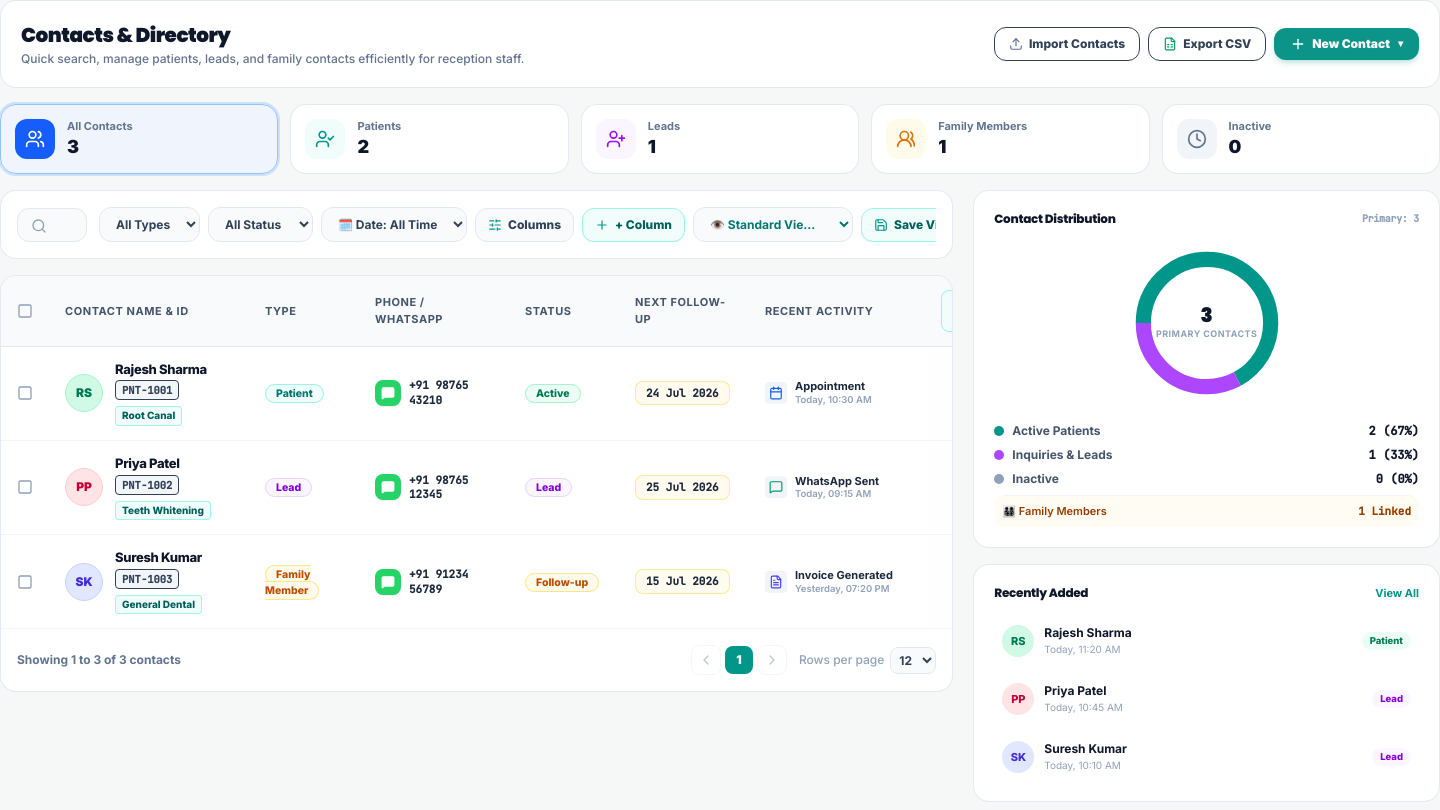
Test case: ContactsEnterpriseWorkspace & Receptionist Grid Tests › 3. Can save a custom view TWICE (Save View #1 & Save View #2) and verify persistence in savedViewsList
This screenshot has width=1440, height=810.
Note: --- First Save View Operation ---
Click the button "Save View" at (915, 224), box [861,208,969,242]
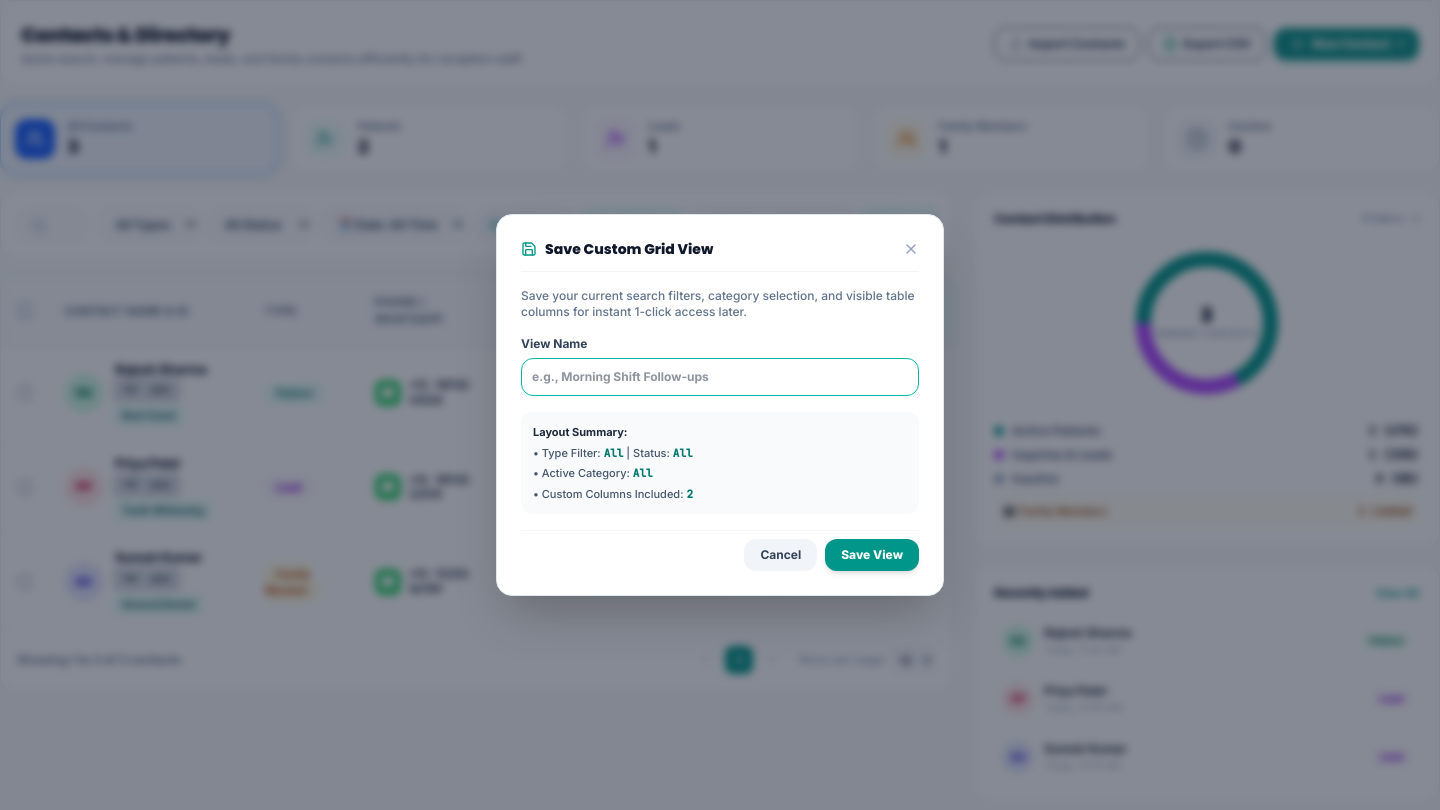
Now the text "Save Custom Grid View" is shown, box [545,239,713,259]
Type "Morning Shift View" into the field with placeholder "e.g., Morning Shift Follow-ups" at (720, 377), box [521,358,919,396]
Note: Confirm Save View #1 in modal
Click the button "Save View" at (872, 555), box [825,539,919,571]
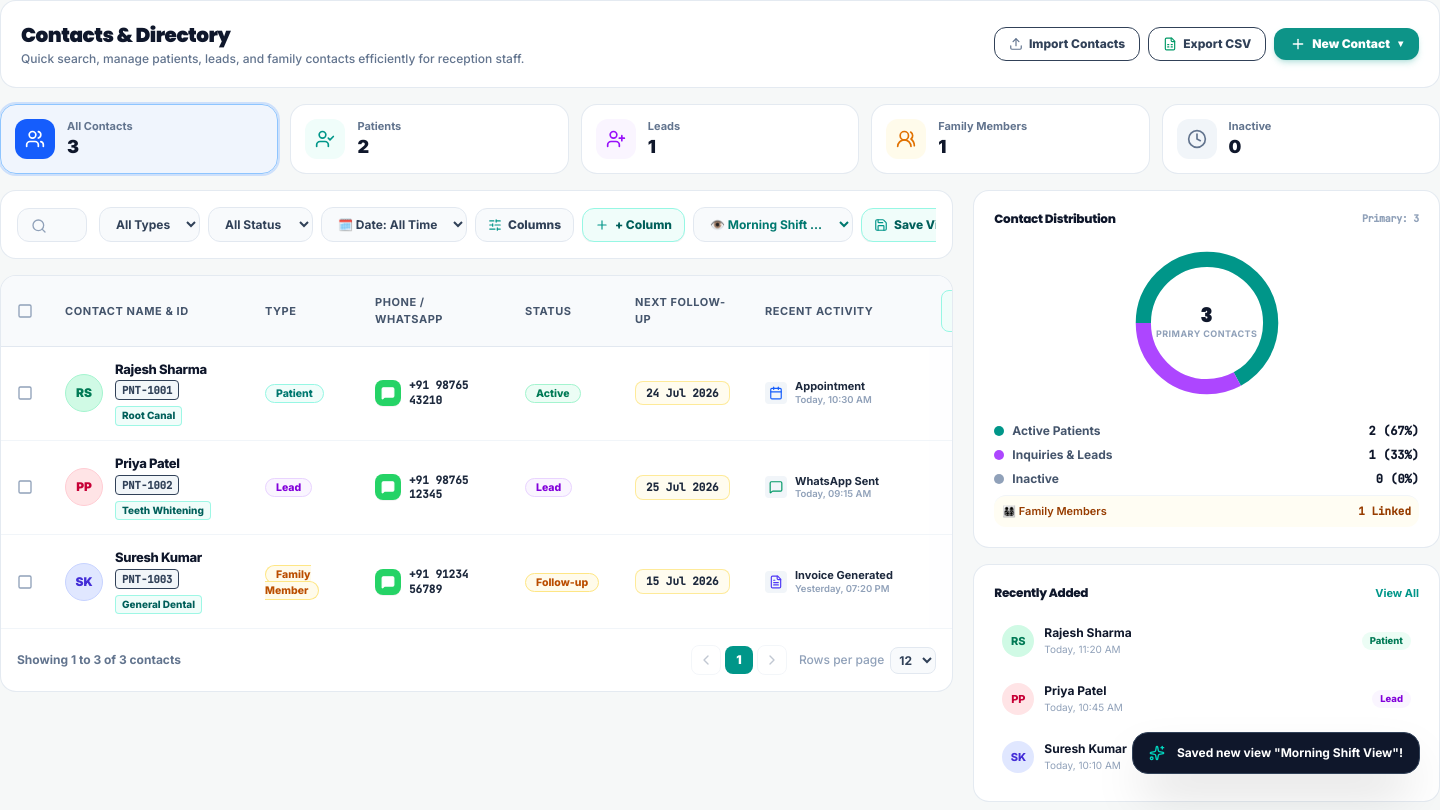
Now the text "Saved new view \"Morning Shift View\"!" is shown, box [1177,745,1403,761]
Select "Leads" in the 1st dropdown showing "All Types" at (150, 224), box [99,207,200,242]
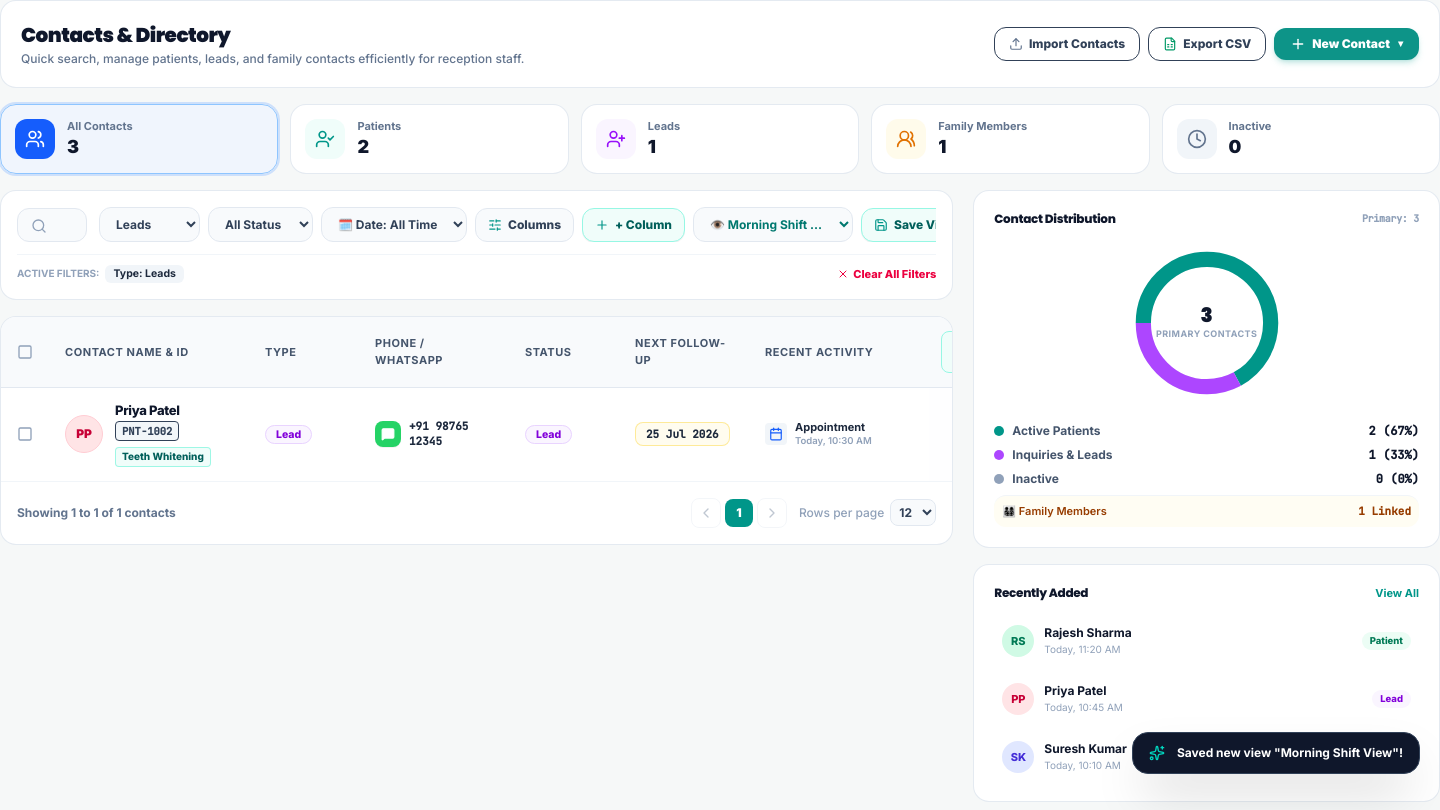
Note: Click Save View again
Click the button "Save View" at (915, 224), box [861,208,969,242]
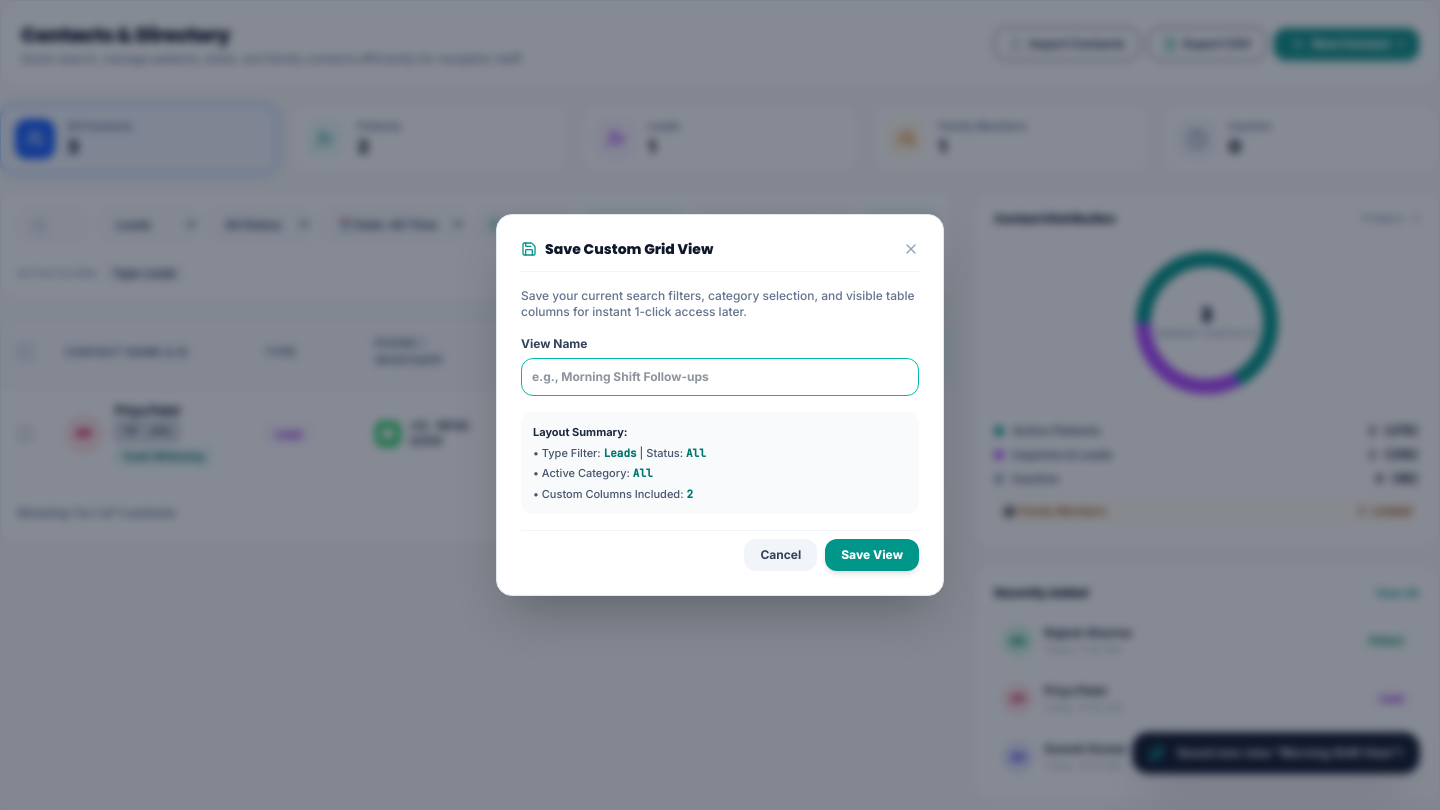
Type "Leads Only View" into the field with placeholder "e.g., Morning Shift Follow-ups" at (720, 377), box [521,358,919,396]
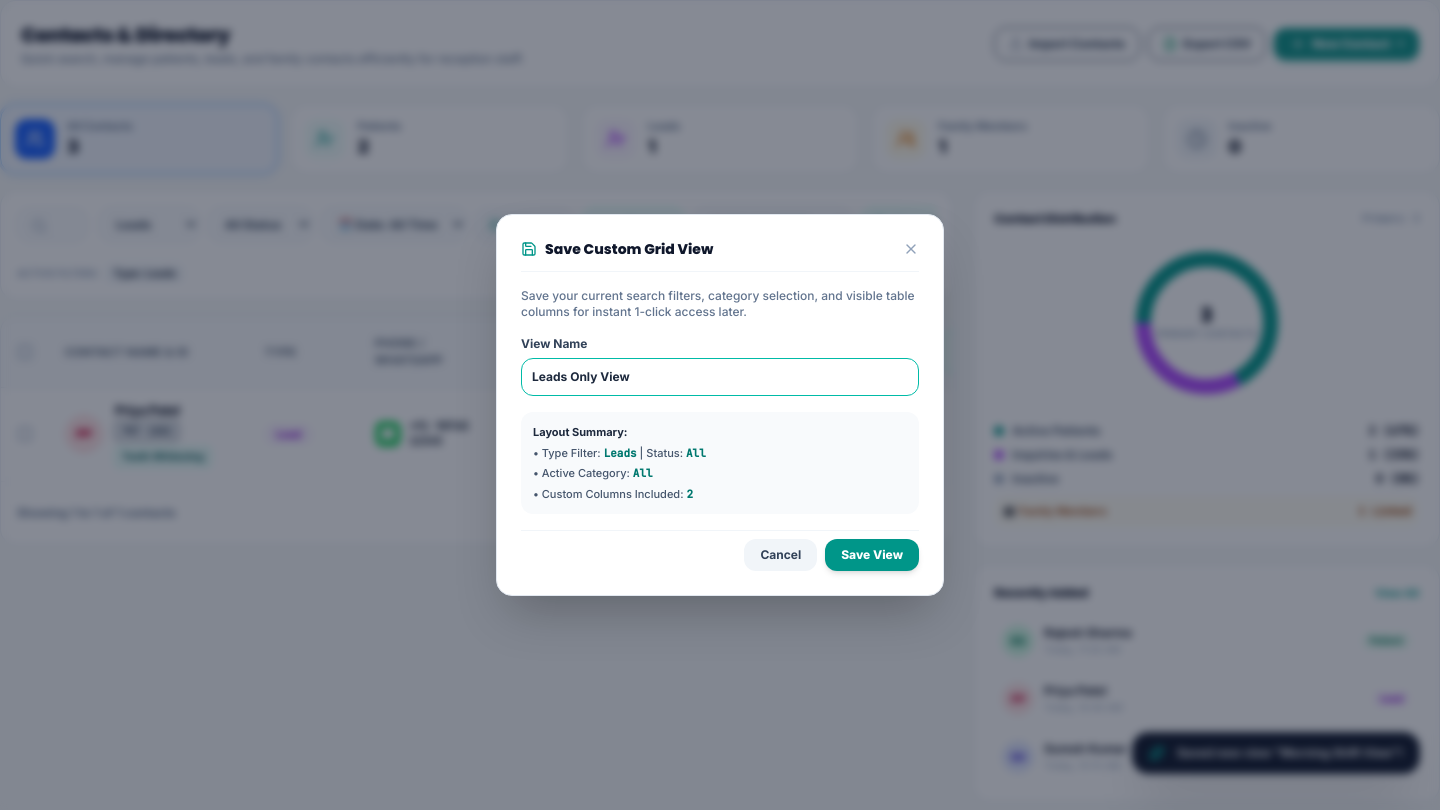
Click the button "Save View" at (872, 555), box [825,539,919,571]
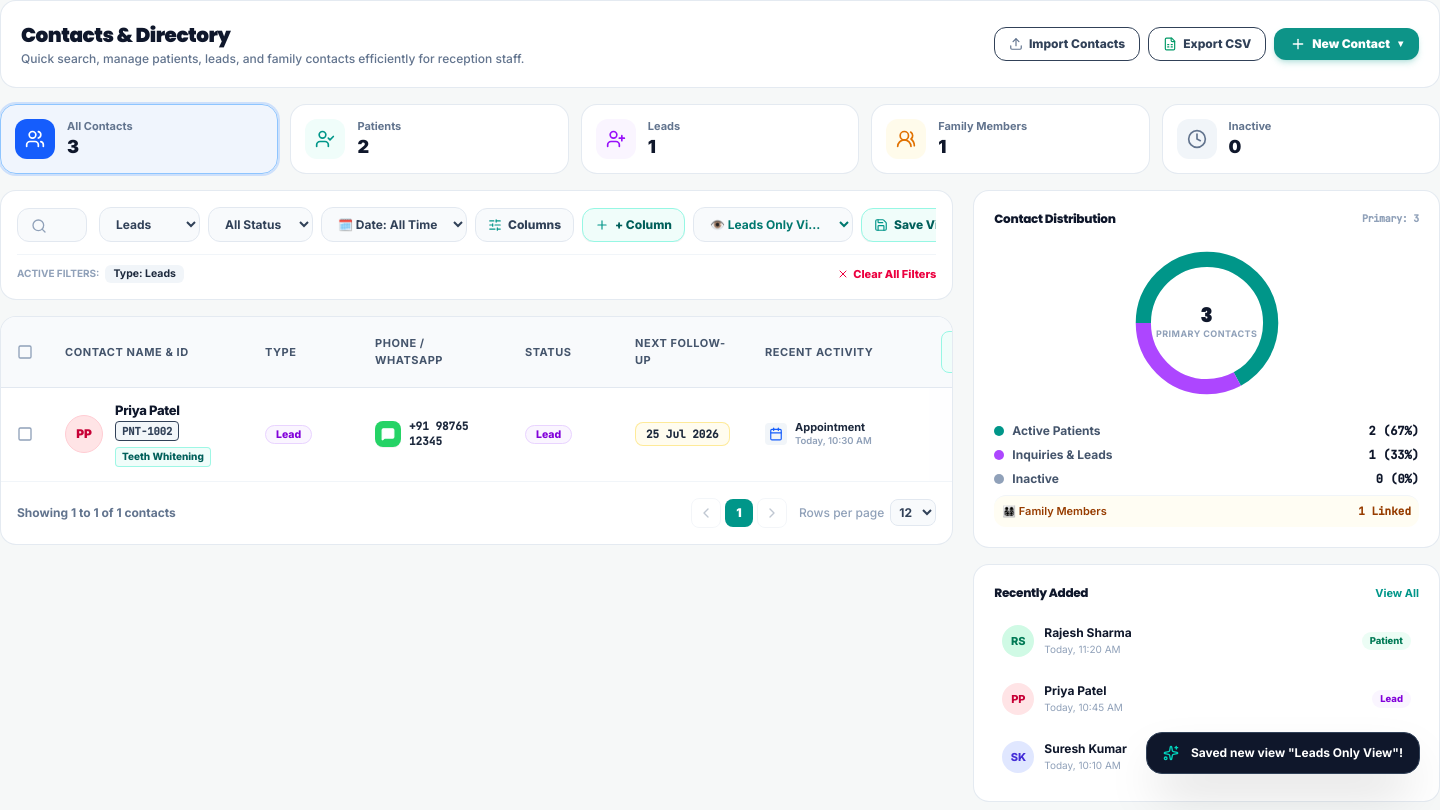
Now the text "Saved new view \"Leads Only View\"!" is shown, box [1191,745,1403,761]
